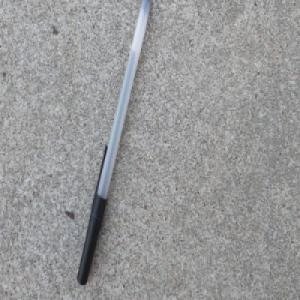Pen: (75, 0, 152, 287)
